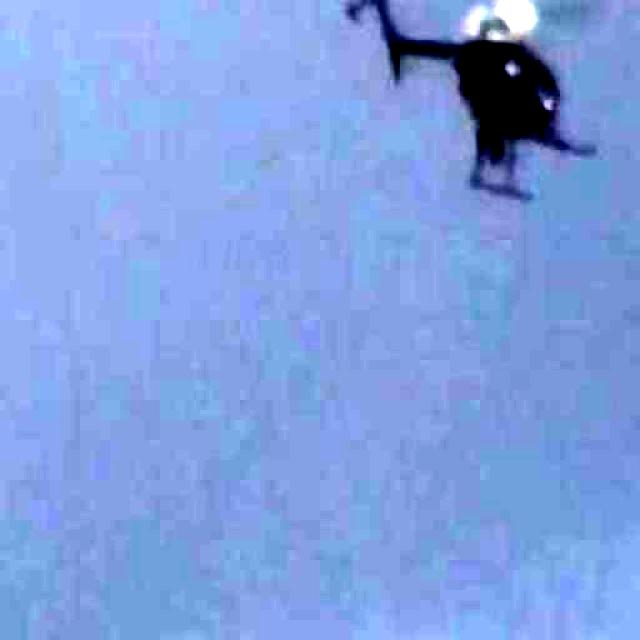drone: (280, 0, 636, 251)
